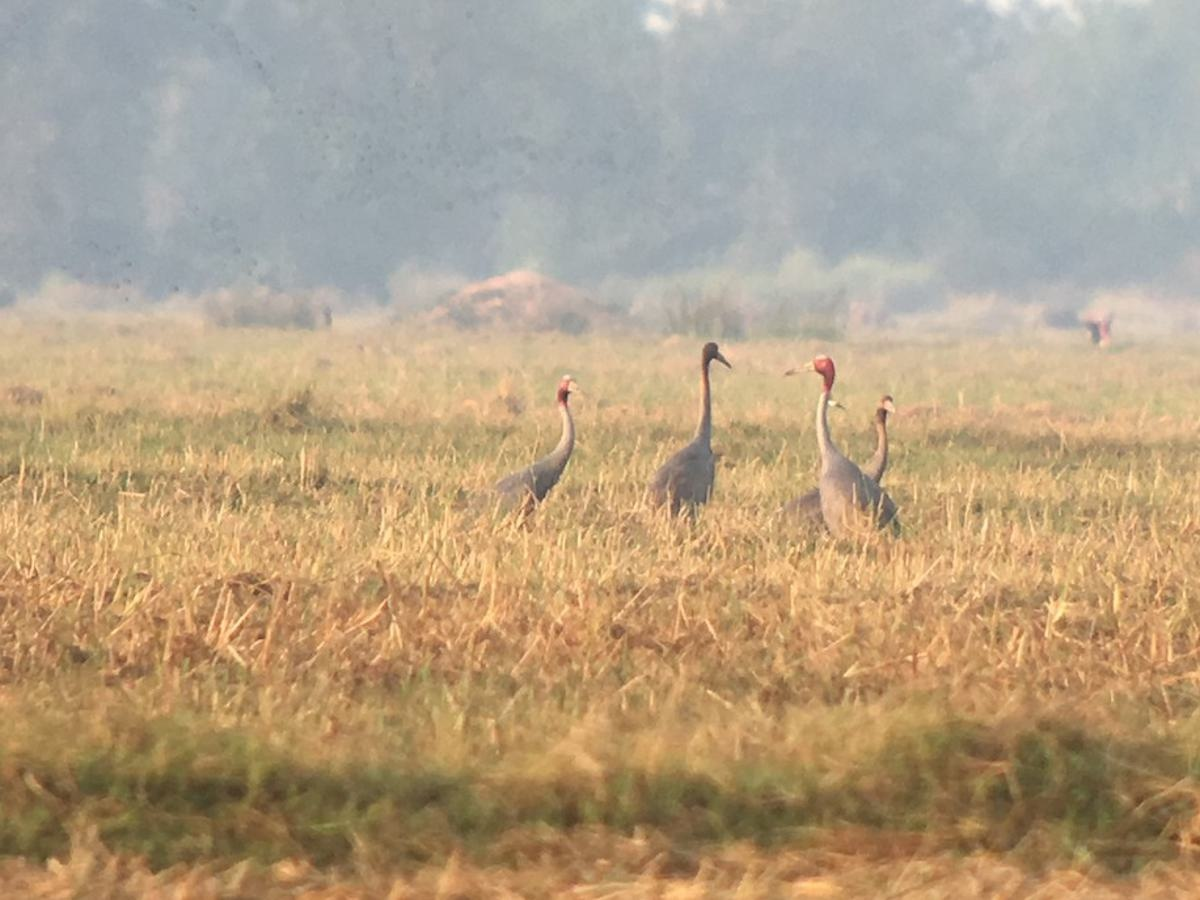crane: (776, 353, 895, 556), (648, 332, 741, 516), (495, 370, 594, 518)
